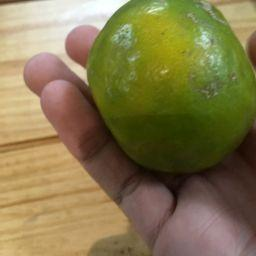Unripe: (85, 5, 256, 167)
